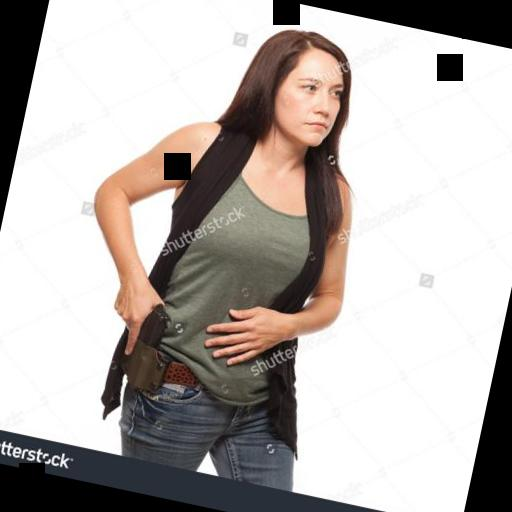Handgun: (106, 293, 174, 391)
